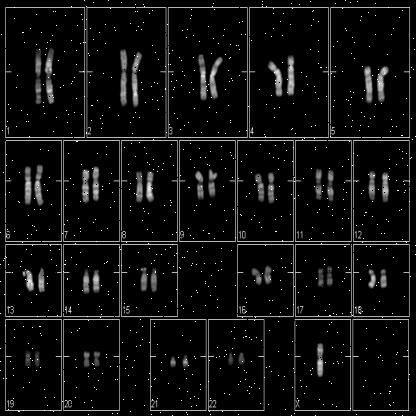1: (30, 43, 44, 108), (43, 43, 56, 108)
10: (252, 168, 267, 204), (266, 168, 281, 204)
11: (311, 162, 323, 206), (324, 162, 336, 206)
12: (365, 163, 377, 205), (378, 165, 390, 206)
13: (18, 266, 38, 294), (37, 266, 49, 294)
14: (90, 264, 102, 298), (80, 264, 91, 298)
15: (137, 264, 148, 296), (148, 266, 158, 297)
16: (247, 261, 264, 289), (262, 262, 278, 290)
17: (315, 262, 326, 292), (326, 262, 337, 292)
18: (366, 263, 378, 294), (376, 264, 388, 295)
19: (22, 344, 33, 372), (32, 343, 43, 370)
2: (130, 46, 142, 108), (118, 45, 128, 110)
20: (82, 344, 91, 370), (92, 343, 100, 370)
21: (168, 350, 180, 370), (179, 349, 190, 370)
22: (236, 346, 246, 372), (226, 347, 235, 372)
3: (208, 48, 221, 108), (196, 49, 209, 108)
4: (282, 53, 301, 99), (266, 56, 284, 102)
5: (359, 61, 378, 108), (372, 58, 391, 104)
6: (22, 162, 34, 206), (32, 161, 43, 206)
7: (78, 164, 92, 204), (92, 164, 106, 204)
8: (131, 167, 145, 206), (144, 167, 158, 206)
9: (206, 164, 219, 202), (193, 166, 206, 202)
X: (314, 339, 328, 379)
